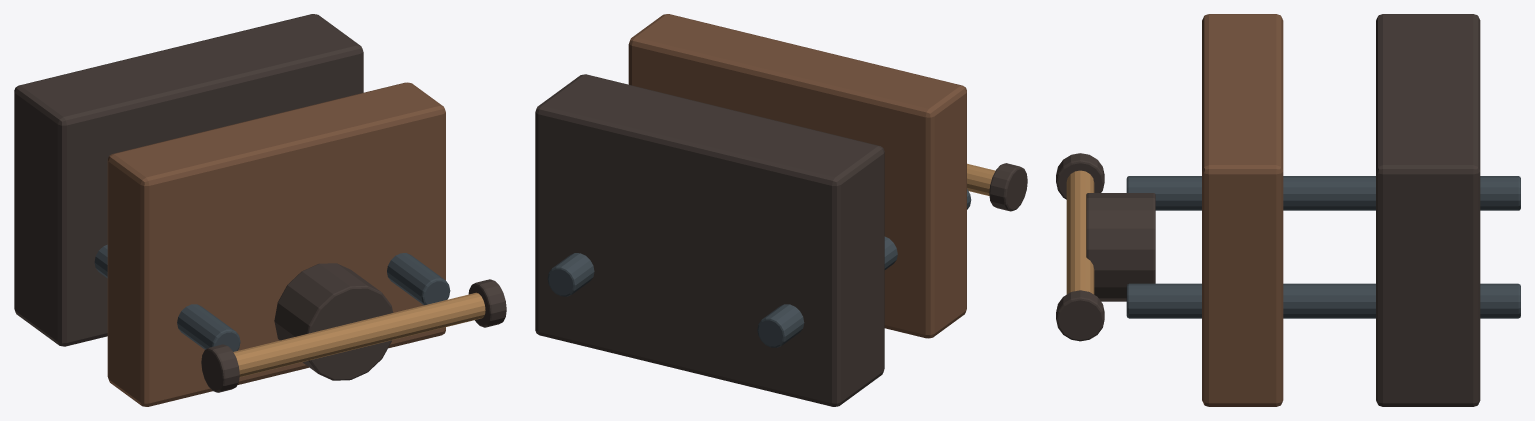
File: bench_vise.glb
The picture shows the model from 3 angles, left to right: view 1: azimuth 30°, elevation 25°; view 2: azimuth 150°, elevation 25°; view 3: azimuth 270°, elevation 25°; orthographic projection. The views are drawn at different scales.
Parts seen in each view (by area): view 1: Moving jaw, Fixed jaw, Wood screw knob, Sliding handle, Guide screw, Guide screw.001, Handle cap, Handle cap.001; view 2: Fixed jaw, Moving jaw, Guide screw, Handle cap, Guide screw.001, Sliding handle; view 3: Fixed jaw, Moving jaw, Guide screw.001, Guide screw, Wood screw knob, Sliding handle, Handle cap.001, Handle cap.
Part boxes in pixels (left/top/right/bottom): Moving jaw: left=107, top=82, right=445, bottom=406; Fixed jaw: left=14, top=14, right=363, bottom=346; Wood screw knob: left=274, top=263, right=392, bottom=380; Sliding handle: left=233, top=292, right=485, bottom=377; Guide screw: left=94, top=244, right=240, bottom=351; Guide screw.001: left=387, top=253, right=450, bottom=305; Handle cap: left=201, top=344, right=239, bottom=392; Handle cap.001: left=468, top=279, right=506, bottom=327; Fixed jaw: left=535, top=74, right=884, bottom=406; Moving jaw: left=628, top=14, right=966, bottom=338; Guide screw: left=757, top=189, right=971, bottom=347; Handle cap: left=989, top=163, right=1027, bottom=211; Guide screw.001: left=547, top=253, right=594, bottom=296; Sliding handle: left=967, top=163, right=995, bottom=195; Fixed jaw: left=1376, top=14, right=1480, bottom=406; Moving jaw: left=1202, top=14, right=1283, bottom=406; Guide screw.001: left=1126, top=283, right=1520, bottom=318; Guide screw: left=1126, top=176, right=1520, bottom=210; Wood screw knob: left=1086, top=193, right=1155, bottom=301; Sliding handle: left=1066, top=170, right=1094, bottom=294; Handle cap.001: left=1056, top=290, right=1104, bottom=341; Handle cap: left=1056, top=153, right=1104, bottom=199.
Bounding box in the file's own units: 0.32 × 0.23 × 0.401.
